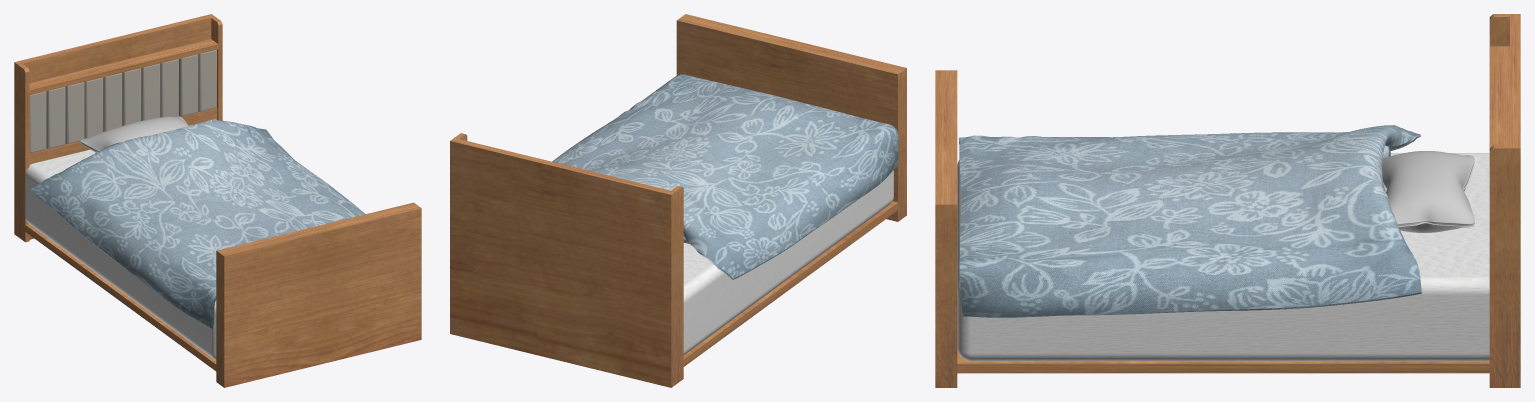
Rendered from bed.fbx.
The picture shows the model from 3 angles, left to right: view 1: azimuth 30°, elevation 25°; view 2: azimuth 150°, elevation 25°; view 3: azimuth 270°, elevation 25°; orthographic projection. The views are drawn at different scales.
Visible parts, largest first — view 1: pCube89, bed:pCube18, bed:pCube19, bed:pCube1, bed:pCube4, bed:pCube17, bed:pCube2, bed:pCube20, bed:pCube15, bed:pCube6, bed:pCube8, bed:pCube9 (+8 smaller); view 2: bed:pCube1, pCube89, bed:pCube18, bed:pCube19, bed:pCube17, bed:pCube2; view 3: pCube89, bed:pCube19, bed:pCube18, bed:pCube17, bed:pCube20, bed:pCube16, bed:pCube1, bed:pCube4, bed:pCube2.
Part boxes in pixels (x1=…): pCube89: x1=31, y1=120, x2=365, y2=328; bed:pCube18: x1=216, y1=202, x2=421, y2=387; bed:pCube19: x1=25, y1=119, x2=217, y2=360; bed:pCube1: x1=14, y1=14, x2=214, y2=236; bed:pCube4: x1=29, y1=39, x2=218, y2=95; bed:pCube17: x1=25, y1=224, x2=216, y2=371; bed:pCube2: x1=17, y1=63, x2=29, y2=242; bed:pCube20: x1=80, y1=116, x2=188, y2=152; bed:pCube15: x1=179, y1=54, x2=198, y2=116; bed:pCube6: x1=46, y1=86, x2=65, y2=148; bed:pCube8: x1=65, y1=82, x2=84, y2=144; bed:pCube9: x1=84, y1=77, x2=103, y2=138; bed:pCube1: x1=450, y1=138, x2=675, y2=387; pCube89: x1=552, y1=74, x2=898, y2=279; bed:pCube18: x1=676, y1=14, x2=906, y2=221; bed:pCube19: x1=683, y1=170, x2=893, y2=354; bed:pCube17: x1=683, y1=201, x2=897, y2=366; bed:pCube2: x1=671, y1=186, x2=683, y2=384; pCube89: x1=959, y1=125, x2=1421, y2=317; bed:pCube19: x1=957, y1=153, x2=1489, y2=361; bed:pCube18: x1=935, y1=70, x2=957, y2=387; bed:pCube17: x1=957, y1=349, x2=1489, y2=373; bed:pCube20: x1=1382, y1=151, x2=1474, y2=232; bed:pCube16: x1=1489, y1=145, x2=1510, y2=387; bed:pCube1: x1=1510, y1=14, x2=1520, y2=387; bed:pCube4: x1=1490, y1=46, x2=1509, y2=147; bed:pCube2: x1=1489, y1=14, x2=1510, y2=148.
Size of the model in its own units: 35.82 by 25 by 55.31.
